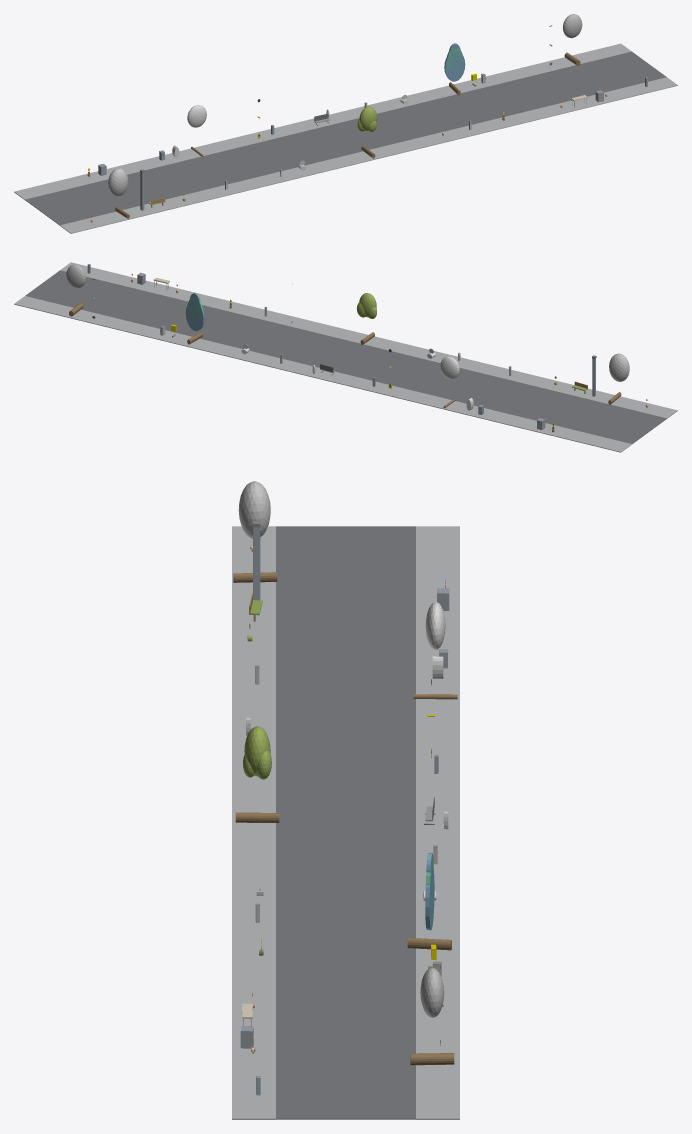
3 views of the same model, one above another, from view 1: azimuth 30°, elevation 25°; view 2: azimuth 150°, elevation 25°; view 3: azimuth 270°, elevation 25° (orthographic). The views are drawn at different scales.
Visible parts, largest first — view 1: road_slab, sidewalk_left, sidewalk_right, inst_0015, inst_0012, inst_0014, inst_0016, inst_0013; view 2: road_slab, sidewalk_right, sidewalk_left, inst_0015, inst_0012, inst_0014, inst_0016, inst_0013; view 3: road_slab, sidewalk_left, sidewalk_right, inst_0012, inst_0014, inst_0016, inst_0015, inst_0013.
Part boxes in pixels (left/top/right/bottom): road_slab: left=25, top=51, right=666, bottom=225; sidewalk_left: left=60, top=77, right=677, bottom=233; sidewalk_right: left=14, top=43, right=631, bottom=199; inst_0015: left=444, top=43, right=465, bottom=95; inst_0012: left=108, top=168, right=129, bottom=218; inst_0014: left=357, top=106, right=377, bottom=158; inst_0016: left=563, top=14, right=582, bottom=65; inst_0013: left=187, top=105, right=206, bottom=156; road_slab: left=25, top=270, right=666, bottom=444; sidewalk_right: left=14, top=296, right=631, bottom=452; sidewalk_left: left=60, top=262, right=677, bottom=418; inst_0015: left=185, top=292, right=204, bottom=344; inst_0012: left=608, top=353, right=629, bottom=404; inst_0014: left=357, top=293, right=376, bottom=344; inst_0016: left=66, top=264, right=86, bottom=316; inst_0013: left=440, top=356, right=459, bottom=408; road_slab: left=276, top=526, right=415, bottom=1119; sidewalk_left: left=232, top=526, right=275, bottom=1119; sidewalk_right: left=416, top=526, right=459, bottom=1119; inst_0012: left=233, top=481, right=277, bottom=582; inst_0014: left=235, top=726, right=279, bottom=822; inst_0016: left=410, top=967, right=454, bottom=1065; inst_0015: left=407, top=853, right=451, bottom=950; inst_0013: left=413, top=602, right=457, bottom=699.
Size of the model in its own units: 80 by 6.08 by 13.
